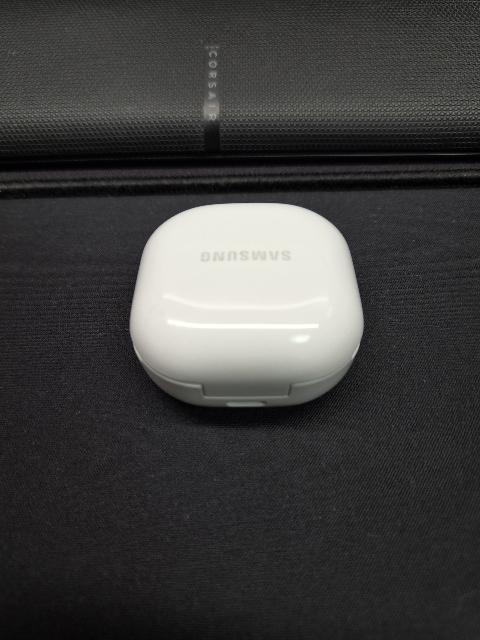earphone_case: (129, 203, 365, 407)
